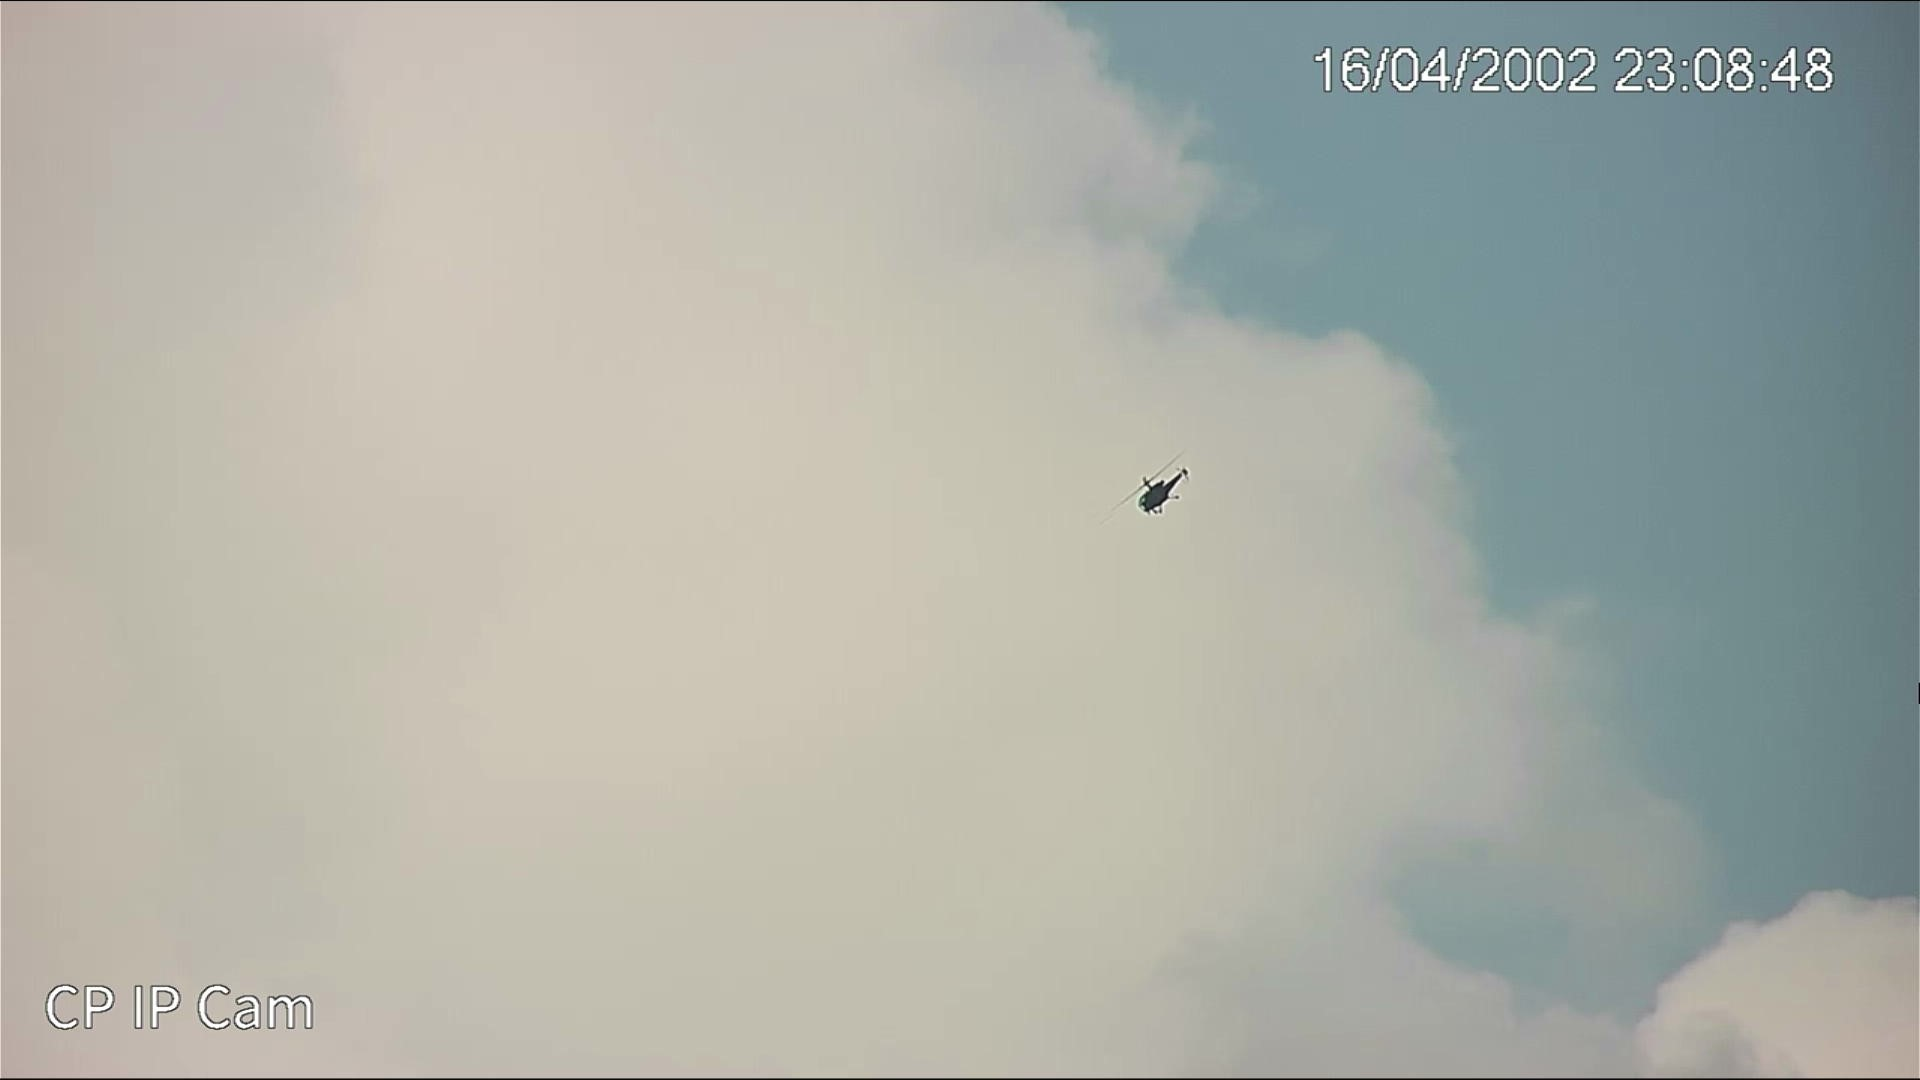SU_30: (1133, 465, 1193, 521)
